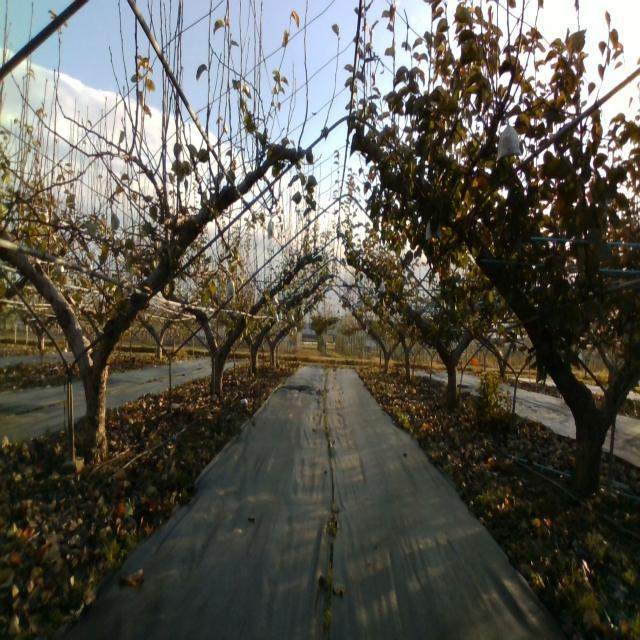pearbags: (494, 115, 522, 160), (226, 275, 237, 299)
